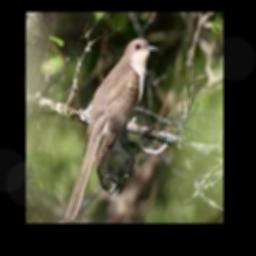Cuckoo: (66, 37, 158, 220)
